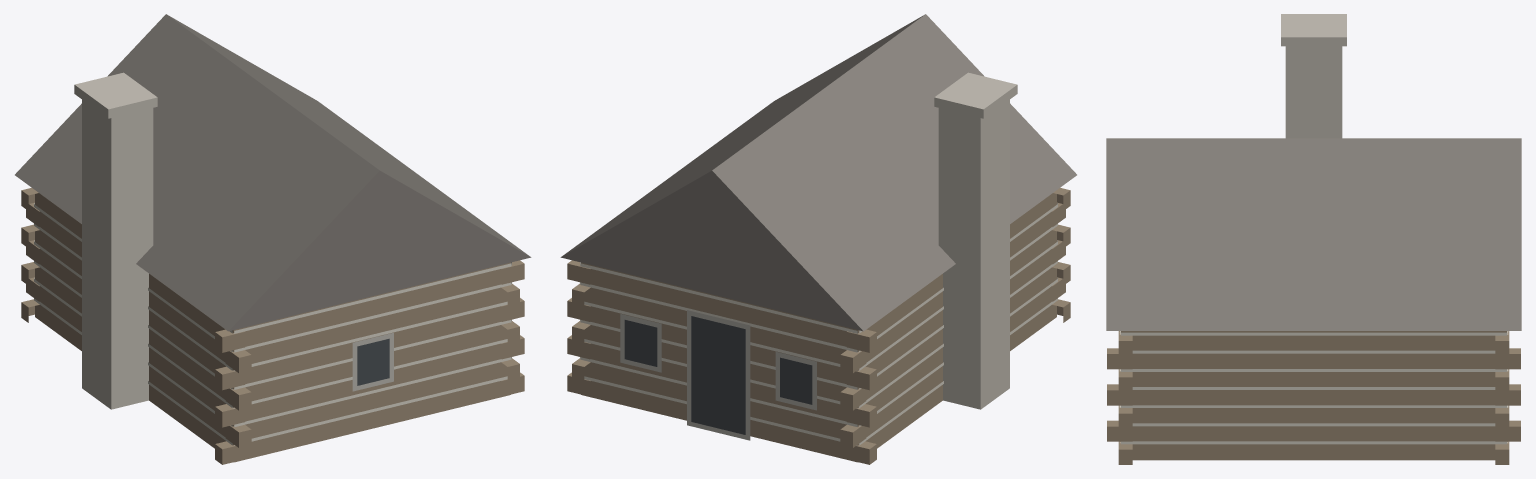
File: recon_1835_blk_randolph_clark_d1_06__inferred_1835.glb
3 views of the same model, side by side, from view 1: azimuth 30°, elevation 25°; view 2: azimuth 150°, elevation 25°; view 3: azimuth 270°, elevation 25° (orthographic). The views are drawn at different scales.
Parts seen in each view (by area): view 1: recon_1835_blk_randolph_clark_d1_06__inferred_1835; view 2: recon_1835_blk_randolph_clark_d1_06__inferred_1835; view 3: recon_1835_blk_randolph_clark_d1_06__inferred_1835.
Part boxes in pixels (x1,y1,x2,y2): recon_1835_blk_randolph_clark_d1_06__inferred_1835: (15, 14, 531, 464); recon_1835_blk_randolph_clark_d1_06__inferred_1835: (560, 14, 1076, 464); recon_1835_blk_randolph_clark_d1_06__inferred_1835: (1106, 14, 1521, 464).
Size of the model in its own units: 6.35 by 5.59 by 7.06.
